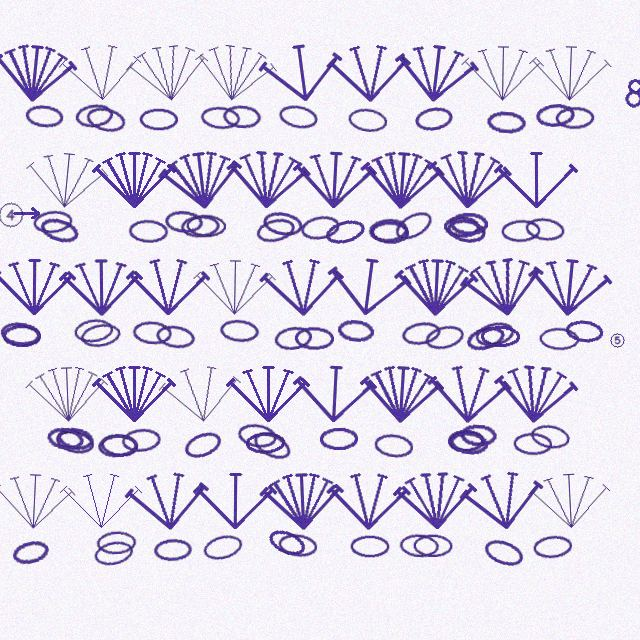chain: (391, 206, 437, 245), (249, 427, 295, 465), (265, 525, 309, 561), (481, 535, 526, 570), (181, 427, 225, 462), (37, 214, 81, 247), (464, 322, 507, 355), (323, 216, 367, 248), (201, 531, 245, 563), (84, 104, 128, 135), (254, 215, 297, 246), (423, 322, 466, 353), (10, 537, 52, 568), (473, 319, 516, 349), (53, 427, 96, 457), (92, 538, 135, 568), (277, 102, 319, 132), (261, 209, 304, 238), (79, 321, 122, 350), (400, 319, 443, 348), (413, 104, 455, 133), (299, 213, 341, 242), (445, 216, 487, 245), (236, 421, 278, 450), (529, 422, 571, 451), (154, 323, 197, 351), (347, 106, 388, 134), (55, 425, 96, 453), (45, 425, 86, 453), (524, 216, 566, 243), (273, 324, 313, 352), (24, 103, 65, 130), (0, 320, 41, 347), (73, 317, 114, 344), (564, 318, 605, 345), (373, 432, 414, 459), (448, 429, 489, 456), (277, 532, 318, 559), (32, 209, 74, 235), (74, 102, 114, 129), (200, 105, 241, 131), (219, 318, 260, 344), (99, 432, 140, 458), (532, 534, 573, 560), (535, 102, 575, 128), (164, 209, 204, 235), (368, 217, 408, 243), (336, 318, 376, 344), (121, 427, 161, 453), (97, 433, 138, 458), (96, 530, 137, 555), (222, 104, 262, 129), (486, 110, 526, 135), (180, 214, 220, 239), (132, 320, 172, 345), (399, 533, 439, 558), (128, 219, 169, 243), (459, 423, 498, 448), (555, 106, 595, 130), (186, 214, 226, 238), (501, 219, 541, 243), (294, 326, 334, 350), (539, 327, 579, 351), (245, 431, 285, 455), (153, 538, 193, 562), (370, 220, 409, 244), (513, 432, 552, 456), (480, 325, 520, 348), (350, 535, 390, 558), (413, 534, 453, 557), (443, 215, 481, 239), (139, 108, 178, 131), (449, 212, 488, 235), (2, 324, 41, 347), (319, 427, 358, 450), (447, 429, 485, 452)
fan: (189, 35, 281, 109), (457, 249, 549, 323), (256, 35, 347, 108), (323, 249, 414, 322), (457, 463, 548, 536), (123, 36, 213, 108), (391, 36, 481, 108), (156, 143, 246, 215), (22, 144, 111, 214), (525, 251, 614, 321), (156, 358, 245, 428), (491, 358, 580, 428), (123, 465, 212, 535), (224, 144, 312, 213), (425, 144, 513, 213), (358, 145, 446, 213), (425, 359, 513, 427), (358, 359, 445, 427), (57, 38, 144, 105), (291, 145, 378, 212), (291, 359, 378, 426), (392, 466, 479, 533), (526, 466, 613, 533), (326, 39, 412, 105), (527, 39, 613, 105), (259, 253, 345, 319), (393, 253, 479, 319), (24, 360, 110, 426), (259, 467, 345, 533), (0, 37, 79, 107), (460, 40, 545, 104), (192, 254, 277, 318), (326, 468, 411, 532), (59, 254, 143, 318), (92, 147, 176, 210), (494, 147, 578, 210), (126, 254, 210, 317), (92, 361, 176, 424), (226, 361, 310, 424), (59, 468, 143, 531), (193, 468, 277, 531), (0, 467, 77, 533), (0, 254, 76, 317)
noise: (0, 200, 25, 229), (623, 88, 640, 110), (12, 207, 42, 219), (608, 331, 626, 349), (625, 76, 640, 96)
